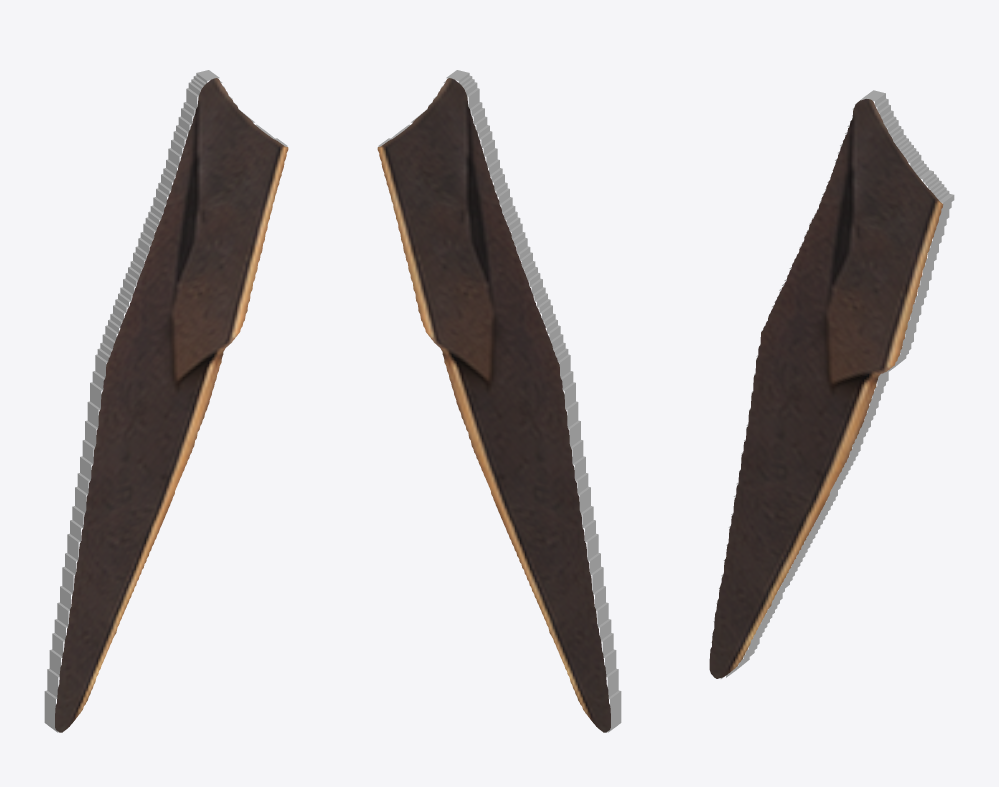
Rendered from Variant01Lower.glb.
The picture shows the model from 3 angles, left to right: view 1: azimuth 30°, elevation 25°; view 2: azimuth 150°, elevation 25°; view 3: azimuth 330°, elevation 25°; orthographic projection.
Visible parts, largest first — view 1: PaperVolume; view 2: PaperVolume; view 3: PaperVolume.
Boxes of the visible parts, x1=… form: PaperVolume: x1=44, y1=70, x2=288, y2=732; PaperVolume: x1=377, y1=70, x2=621, y2=732; PaperVolume: x1=709, y1=90, x2=954, y2=678.
Size of the model in its own units: 1.21 by 2.68 by 0.08.
3 materials, 2 textured.
